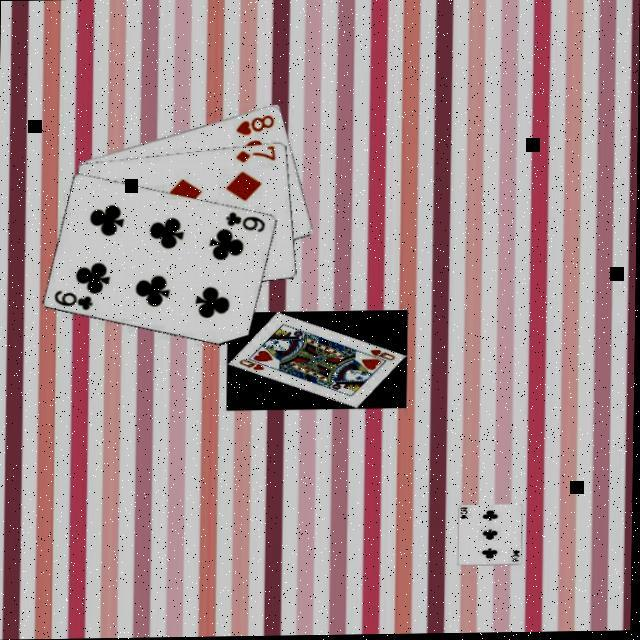6C: (226, 210, 270, 237), (54, 287, 98, 314)
7D: (234, 146, 279, 167)
8H: (234, 112, 278, 140)
